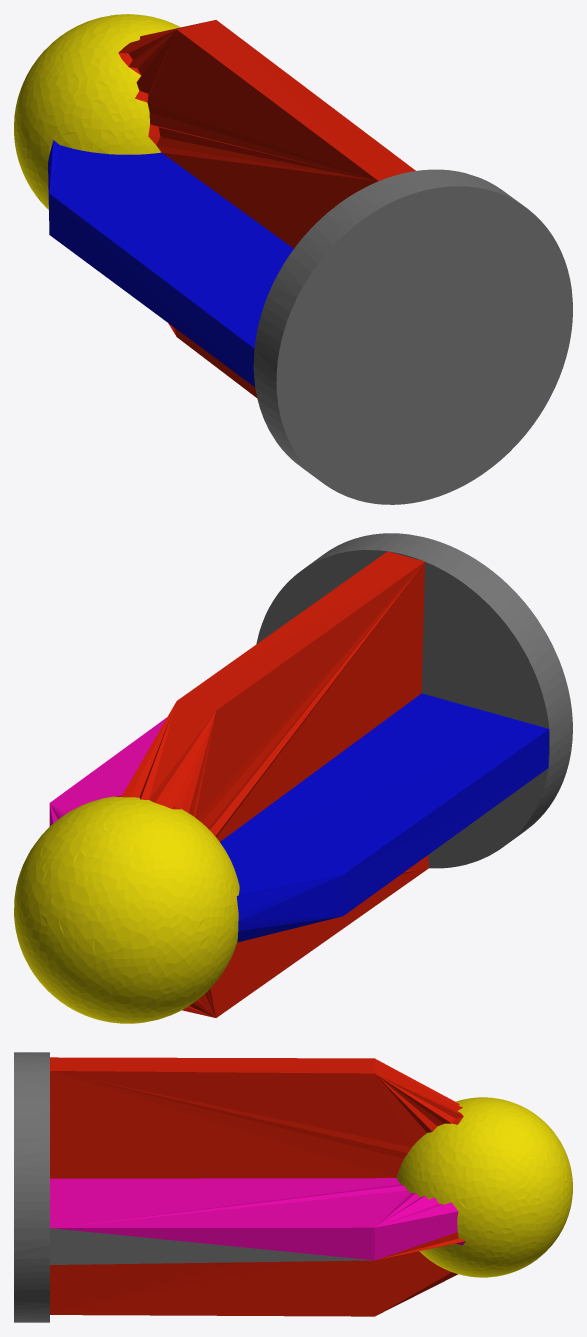
Rendered from adapter.dae.
The picture shows the model from 3 angles, top to bottom: view 1: azimuth 30°, elevation 25°; view 2: azimuth 150°, elevation 25°; view 3: azimuth 270°, elevation 25°; orthographic projection. The views are drawn at different scales.
Visible parts, largest first — view 1: adapter; view 2: adapter; view 3: adapter.
Boxes of the visible parts, bbox=[...] form: adapter: bbox=[14, 14, 572, 504]; adapter: bbox=[14, 533, 572, 1023]; adapter: bbox=[14, 1052, 572, 1322].
Bounding box in the file's own units: 75 × 155 × 74.99.
